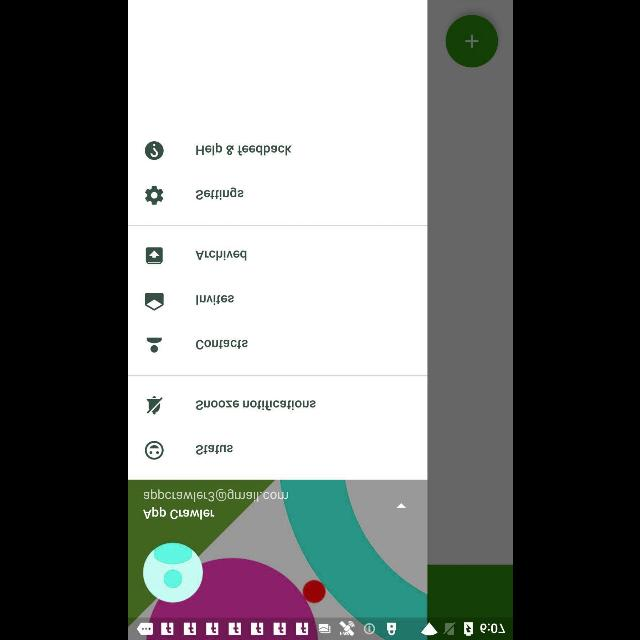button: (444, 14, 498, 68)
icon: (142, 542, 202, 602), (144, 142, 164, 160), (145, 186, 163, 204), (144, 293, 162, 311), (146, 247, 162, 265), (146, 396, 162, 414), (146, 337, 162, 353), (396, 502, 406, 508)
image: (144, 440, 164, 460)
panel: (128, 0, 426, 616)
text: (142, 489, 288, 503), (195, 142, 291, 156), (195, 400, 315, 410), (142, 506, 214, 520), (194, 249, 246, 261), (195, 188, 243, 200), (195, 338, 247, 349), (196, 294, 234, 306), (195, 444, 232, 454)
uppertaskbar: (128, 617, 512, 639)
